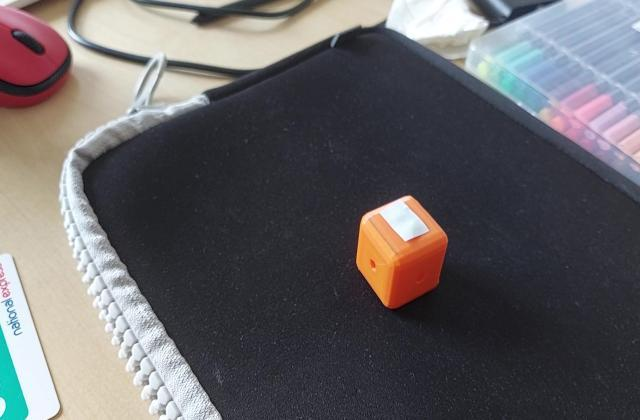sticker: (352, 193, 450, 310)
white: (388, 211, 432, 243)
